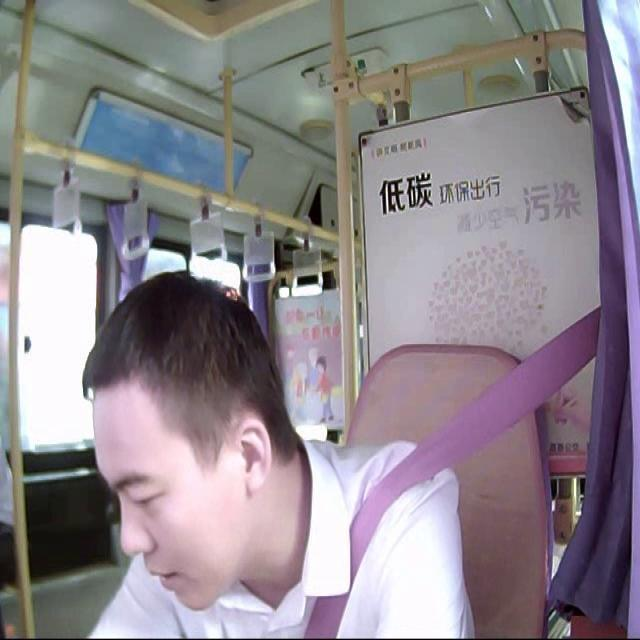Eye-Close: (130, 486, 168, 510)
Inattentive: (80, 270, 285, 619)
Normal: (144, 558, 184, 590)
